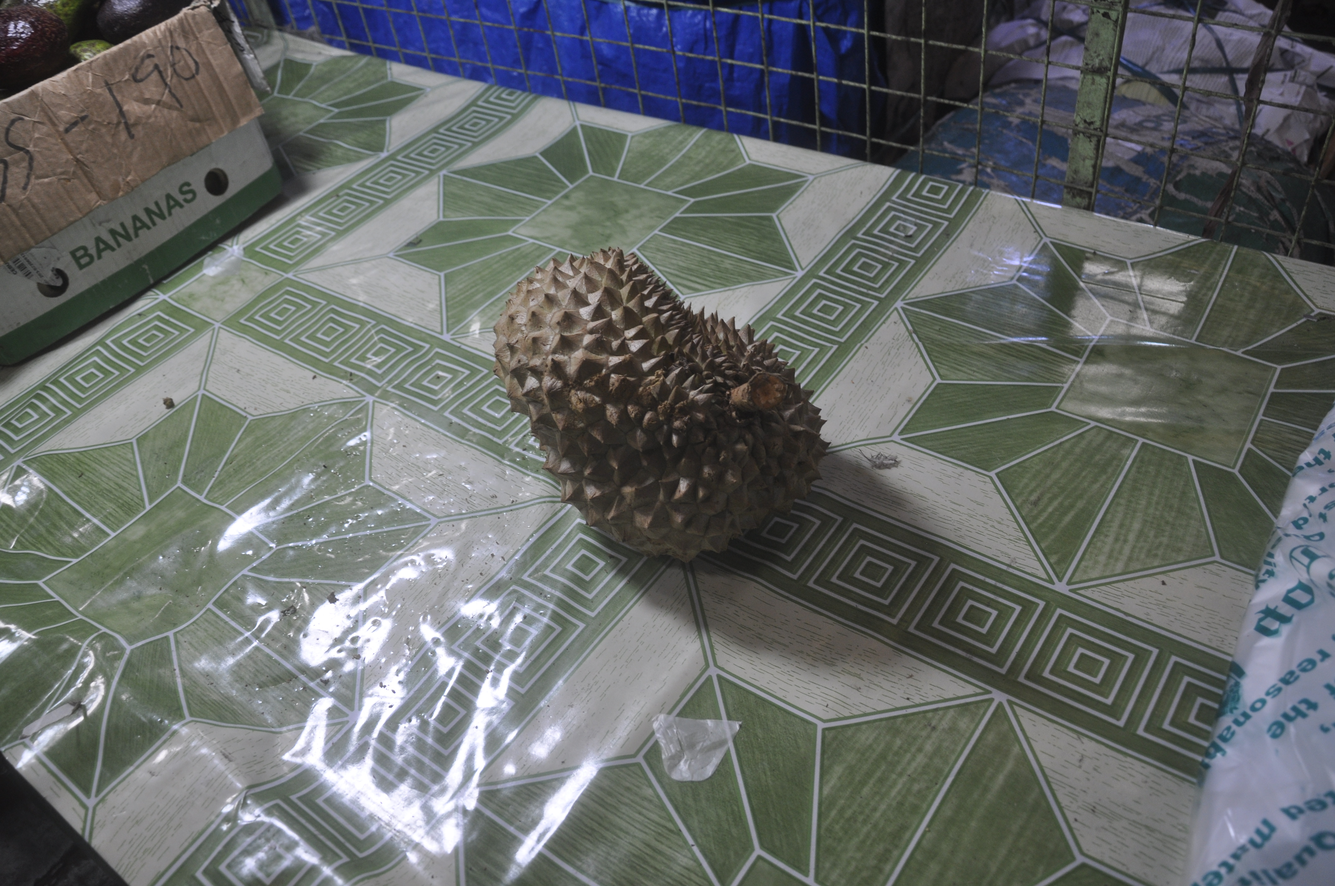mature: (495, 249, 828, 561)
